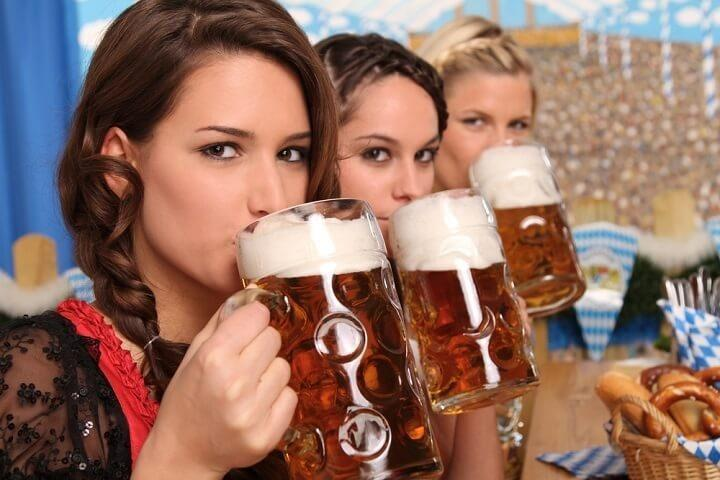glass-mug: (225, 195, 448, 480), (386, 185, 536, 411), (465, 138, 588, 314)
